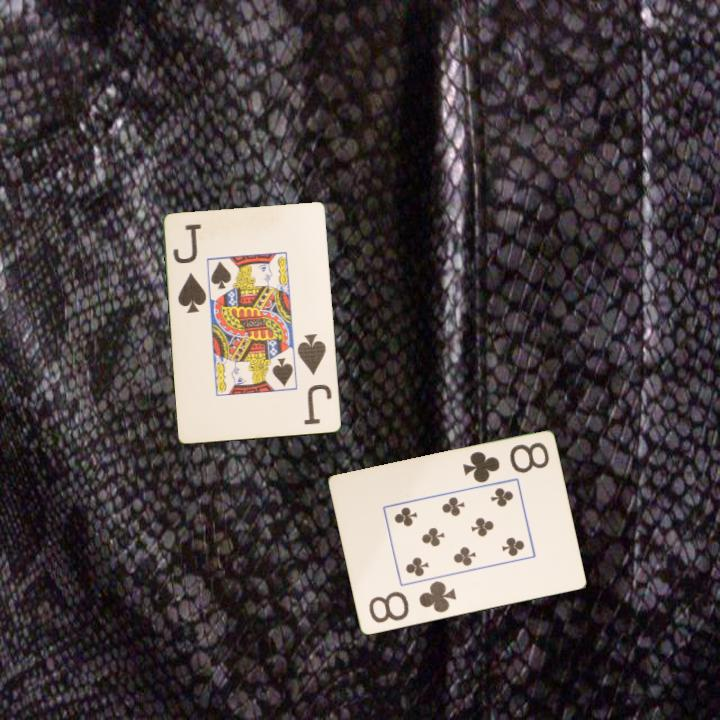8c: (365, 578, 459, 626), (459, 439, 552, 486)
Js: (294, 331, 335, 428), (170, 220, 209, 316)
